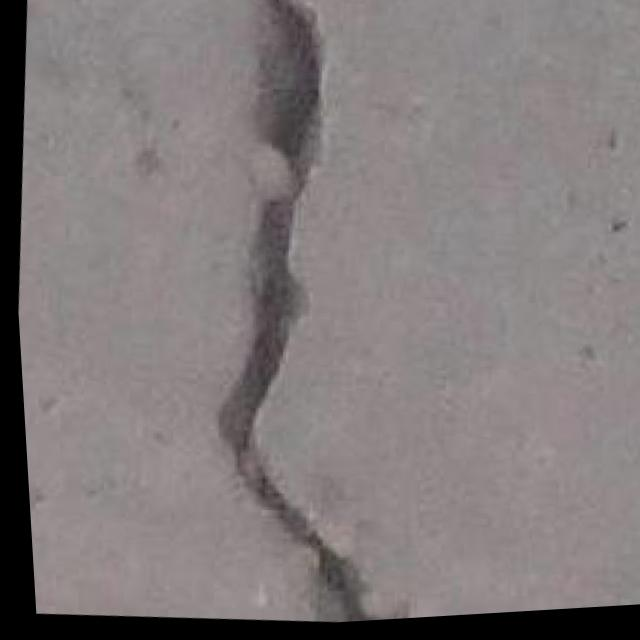Crack: (160, 0, 462, 633)
